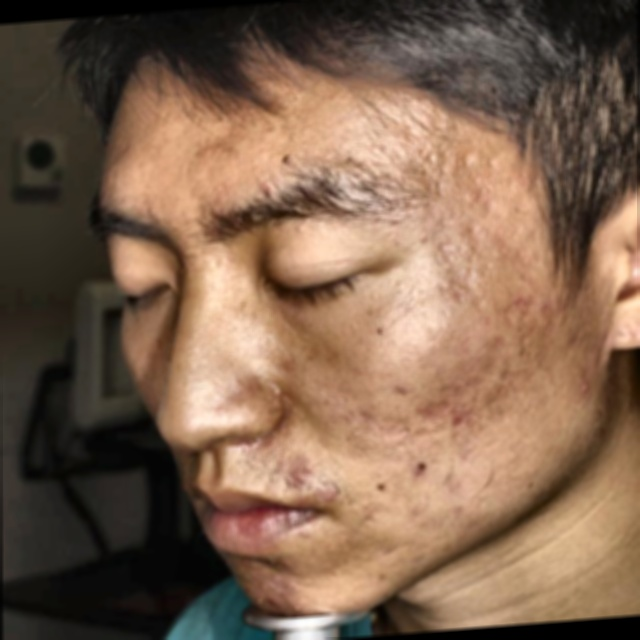comedone: (442, 408, 468, 439), (250, 589, 273, 614), (578, 375, 594, 405), (288, 598, 310, 614)
